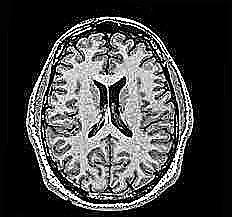Normal_Brain: (1, 1, 232, 217)
